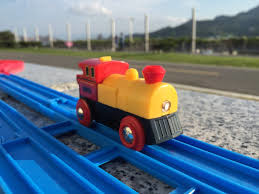brio: (74, 55, 190, 157)
